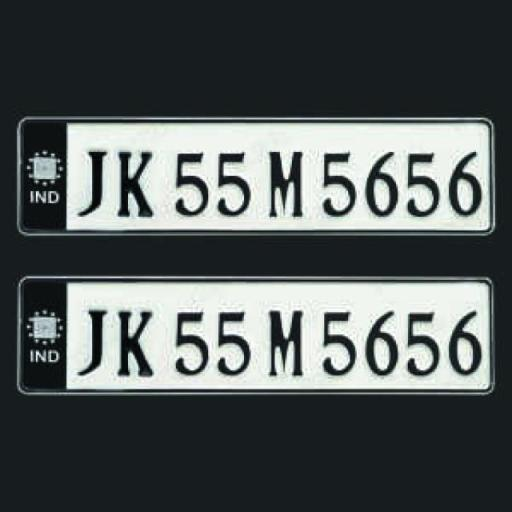number plate: (14, 274, 500, 396), (16, 118, 499, 236)
